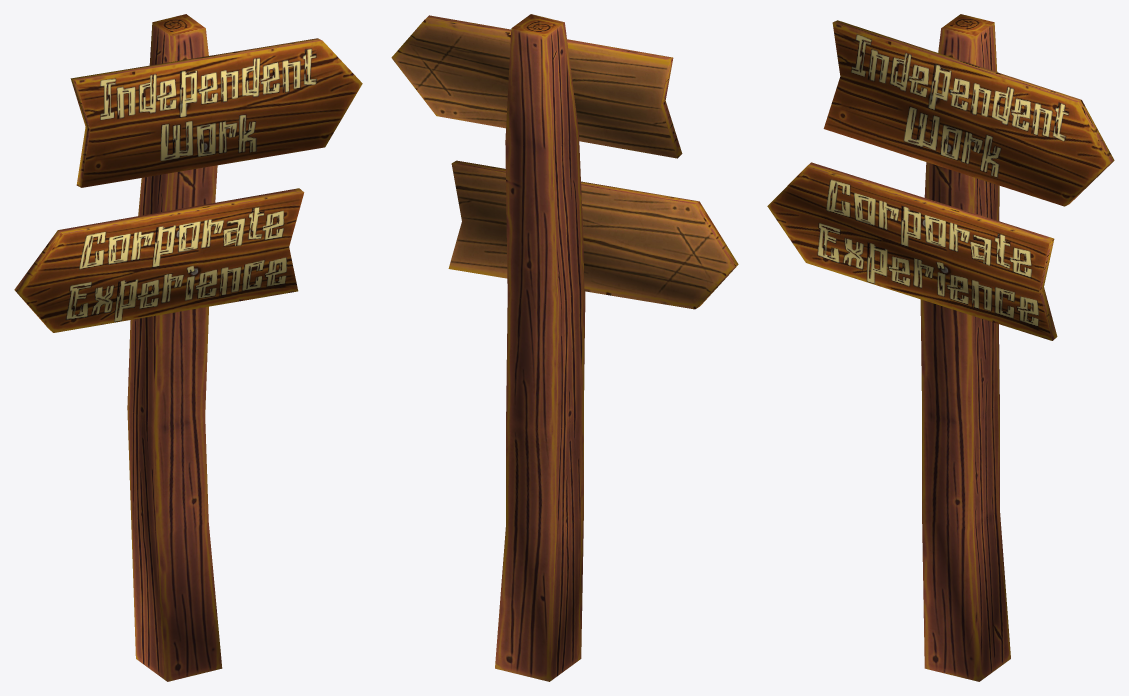
File: road_sign1.glb
3 renders of one model, left to right at view 1: azimuth 30°, elevation 25°; view 2: azimuth 150°, elevation 25°; view 3: azimuth 330°, elevation 25°, orthographic.
Visible parts, largest first — view 1: wooden stick.003, wood sign 2.002, wood sign 2.003; view 2: wooden stick.003, wood sign 2.003, wood sign 2.002; view 3: wooden stick.003, wood sign 2.002, wood sign 2.003.
Boxes of the visible parts, left/top/right/bottom form: wooden stick.003: left=127, top=14, right=222, bottom=681; wood sign 2.002: left=70, top=38, right=362, bottom=187; wood sign 2.003: left=14, top=188, right=304, bottom=332; wooden stick.003: left=495, top=14, right=585, bottom=681; wood sign 2.003: left=448, top=160, right=738, bottom=309; wood sign 2.002: left=391, top=15, right=682, bottom=158; wooden stick.003: left=920, top=14, right=1010, bottom=681; wood sign 2.002: left=823, top=20, right=1114, bottom=206; wood sign 2.003: left=767, top=162, right=1057, bottom=340.
Bounding box in the file's own units: 1.22 × 2.17 × 0.2577.
Materials: 1 (1 with a texture image).
